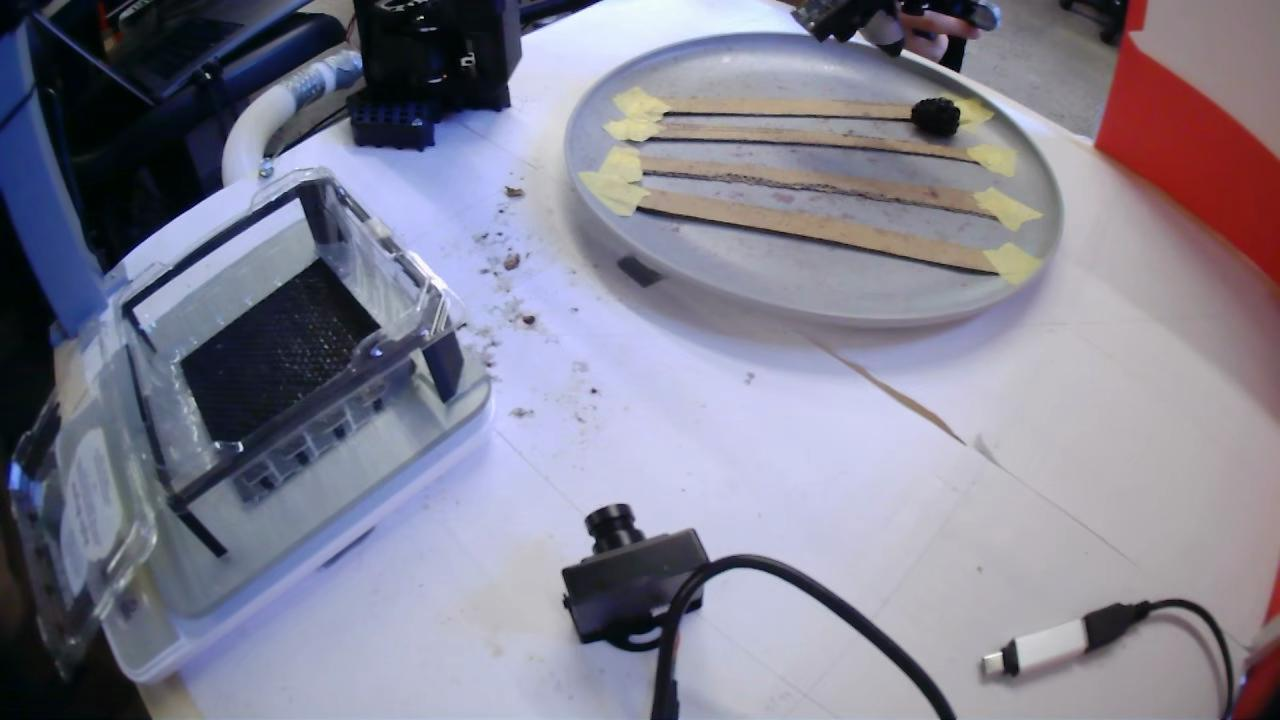berry: (910, 98, 960, 136)
